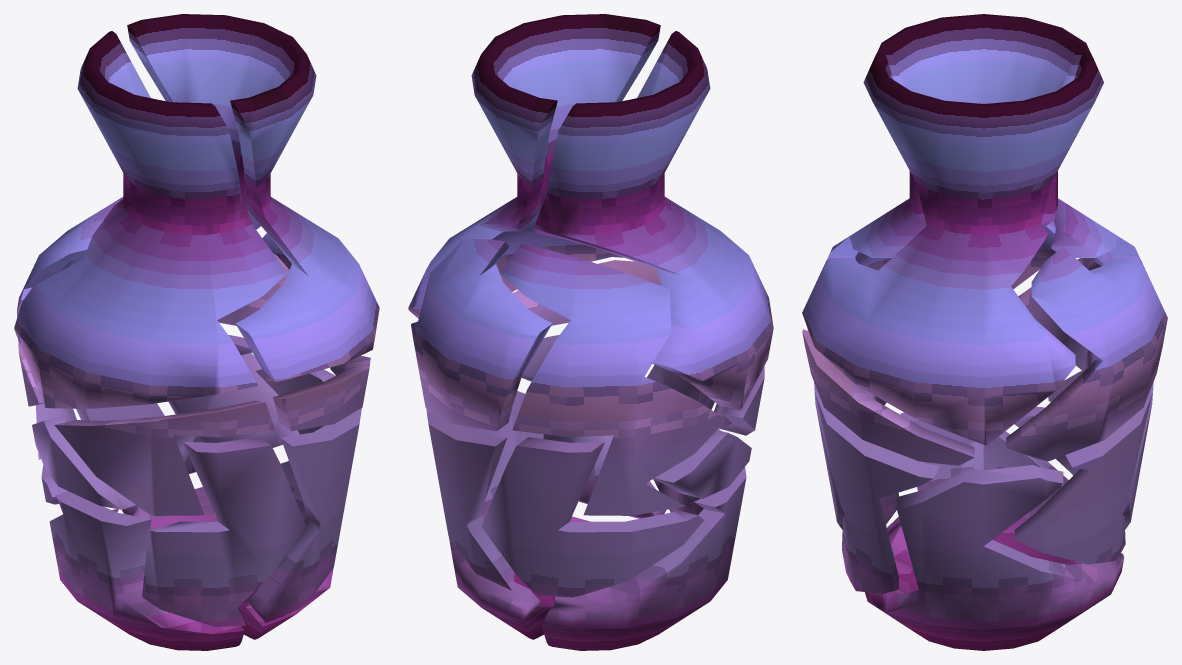
Rendered from JAR_DESTRUCT.fbx.
The picture shows the model from 3 angles, left to right: view 1: azimuth 30°, elevation 25°; view 2: azimuth 150°, elevation 25°; view 3: azimuth 270°, elevation 25°; orthographic projection.
Parts seen in each view (by area): view 1: JAR_DESTRUCT; view 2: JAR_DESTRUCT; view 3: JAR_DESTRUCT.
Boxes of the visible parts, x1,y1,x2,y2 form: JAR_DESTRUCT: [14, 14, 379, 650]; JAR_DESTRUCT: [408, 14, 773, 650]; JAR_DESTRUCT: [802, 14, 1167, 650].
Bounding box in the file's own units: 3049 × 5240 × 3030.
1 material, 1 textured.
